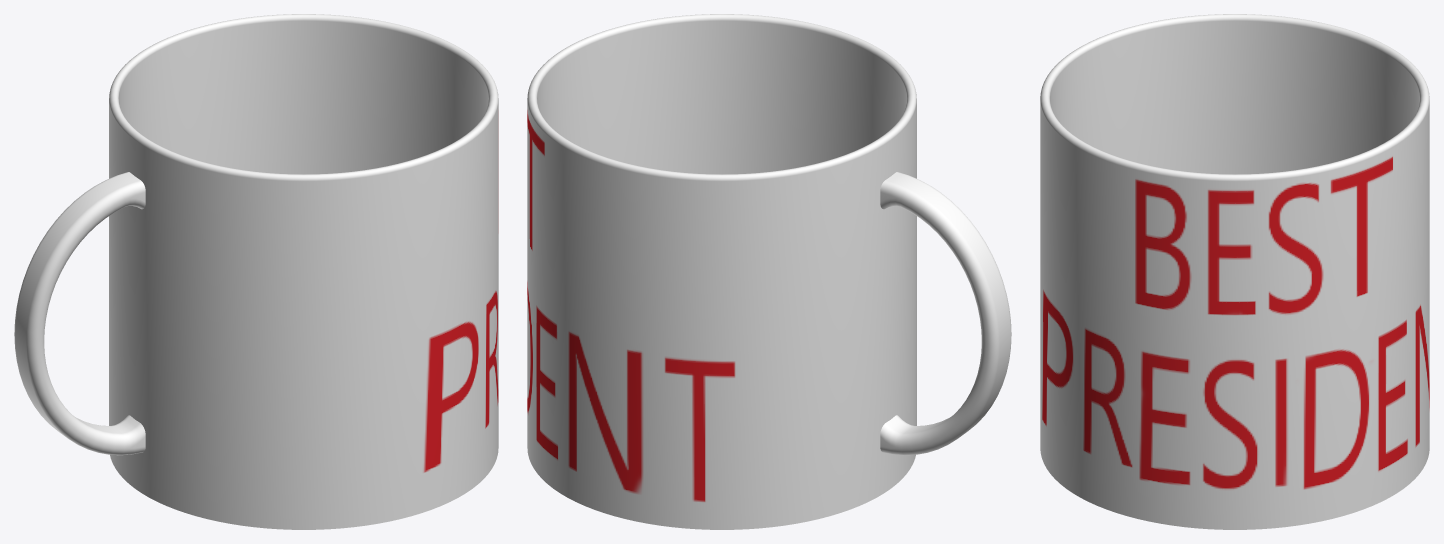
The model's file is Oval Office Table Mug.fbx.
3 renders of one model, left to right at view 1: azimuth 30°, elevation 25°; view 2: azimuth 150°, elevation 25°; view 3: azimuth 270°, elevation 25°, orthographic.
Visible parts, largest first — view 1: circle-handle mug white; view 2: circle-handle mug white; view 3: circle-handle mug white.
Boxes of the visible parts, bbox=[...] form: circle-handle mug white: bbox=[14, 14, 498, 529]; circle-handle mug white: bbox=[527, 14, 1011, 529]; circle-handle mug white: bbox=[1040, 14, 1429, 529].
Size of the model in its own units: 268 by 200 by 200.
